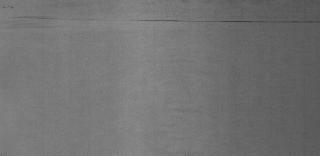scratches: (28, 11, 320, 28)
